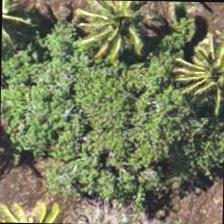Kelapa_Sawit: (81, 0, 173, 72)
